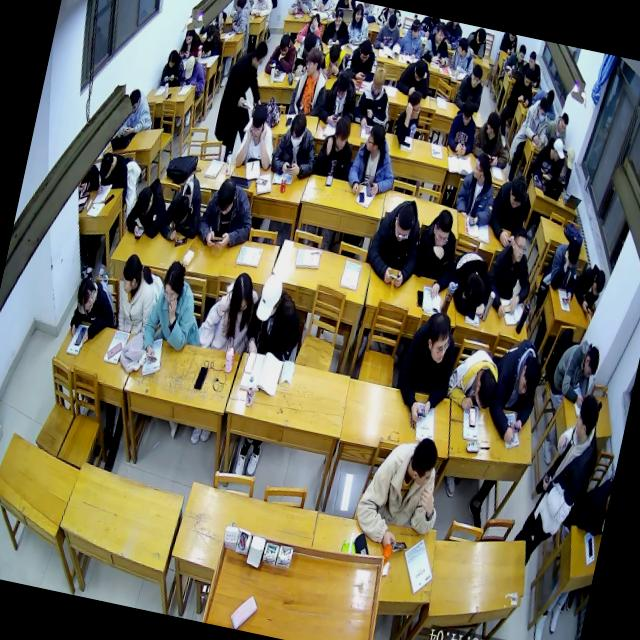bow: (443, 344, 502, 414), (158, 168, 208, 245), (444, 248, 496, 318), (123, 173, 172, 240), (570, 261, 608, 316), (394, 55, 434, 99), (320, 42, 351, 80), (463, 26, 489, 58), (287, 0, 314, 17)
down: (137, 258, 213, 370), (254, 271, 285, 323), (160, 258, 187, 305), (516, 354, 544, 398), (227, 270, 255, 314), (472, 366, 498, 410), (295, 9, 325, 45), (212, 176, 238, 217), (430, 206, 455, 248), (391, 202, 416, 242), (286, 112, 308, 150), (248, 104, 268, 142), (507, 174, 528, 210), (581, 344, 601, 380), (331, 116, 352, 150), (134, 184, 154, 216), (171, 193, 191, 224), (563, 239, 582, 269), (369, 66, 387, 96), (334, 70, 351, 100), (590, 268, 607, 296), (98, 150, 114, 179), (300, 31, 318, 56), (126, 86, 142, 114), (459, 98, 475, 125), (468, 63, 484, 89), (326, 43, 342, 68), (535, 96, 550, 122), (412, 58, 428, 82), (357, 38, 372, 63), (182, 54, 196, 80), (562, 146, 576, 170), (556, 110, 570, 134), (277, 34, 291, 56), (434, 20, 446, 43), (165, 48, 178, 68), (309, 12, 321, 33), (474, 28, 488, 46), (352, 2, 364, 22), (386, 12, 398, 32), (204, 23, 216, 42), (522, 67, 533, 87), (332, 8, 344, 26), (515, 44, 527, 62)
lookup: (508, 225, 528, 262)
sit: (515, 383, 608, 568), (349, 426, 452, 560), (389, 306, 462, 426), (483, 334, 546, 444), (212, 36, 266, 153), (362, 193, 427, 290), (242, 270, 306, 360), (484, 222, 542, 320), (198, 266, 260, 354), (409, 204, 464, 300), (194, 173, 259, 254), (344, 120, 404, 202), (452, 148, 504, 228), (110, 252, 160, 334), (548, 335, 602, 406), (269, 110, 322, 181), (66, 275, 118, 346), (485, 170, 532, 248), (233, 103, 282, 174), (287, 44, 333, 118), (311, 114, 359, 181), (352, 64, 398, 132), (542, 235, 584, 304), (469, 108, 516, 168), (318, 70, 362, 130), (445, 97, 482, 156), (119, 87, 158, 140), (520, 94, 556, 148), (94, 150, 134, 198), (452, 60, 488, 112), (392, 88, 424, 146), (530, 134, 566, 182), (262, 31, 298, 78), (421, 19, 456, 66), (320, 6, 354, 47), (344, 1, 374, 46), (372, 10, 403, 52), (396, 16, 426, 59), (508, 66, 538, 108), (178, 54, 210, 92), (158, 48, 186, 88), (448, 36, 477, 74), (199, 22, 227, 60), (544, 109, 572, 145), (520, 48, 546, 86), (554, 145, 576, 189), (229, 0, 255, 34), (502, 42, 527, 77), (178, 26, 203, 59), (249, 0, 276, 19), (527, 50, 537, 68), (251, 10, 259, 18)
